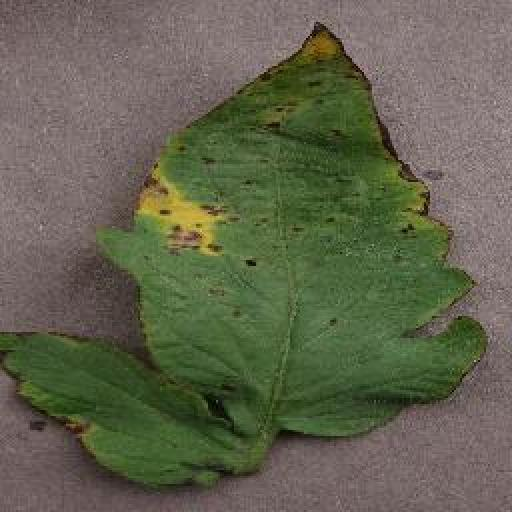Bacterial Spot: (0, 17, 491, 491)
